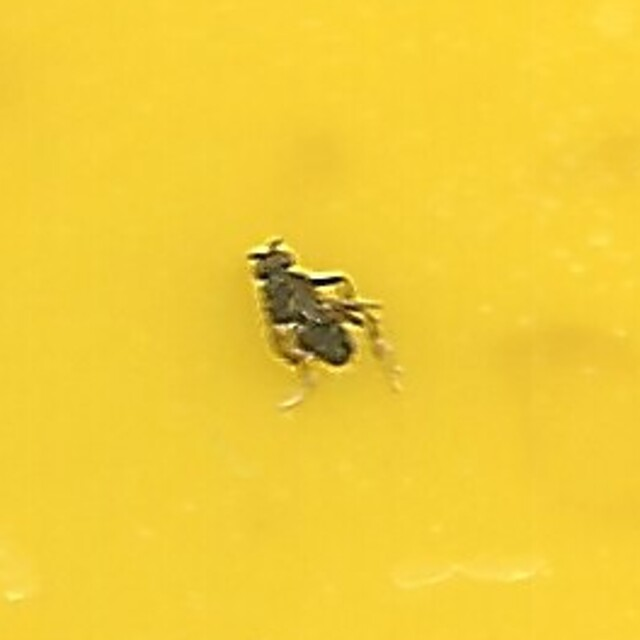Brachycera: (242, 234, 398, 406)
